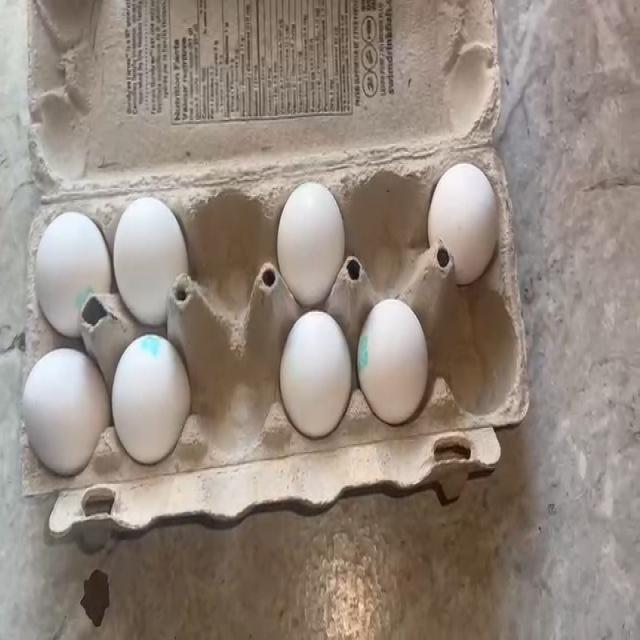Egg: (272, 182, 350, 292), (28, 206, 102, 314), (114, 188, 177, 312), (107, 348, 188, 444), (364, 292, 430, 409), (277, 326, 355, 418), (31, 363, 96, 463), (426, 172, 494, 254)
